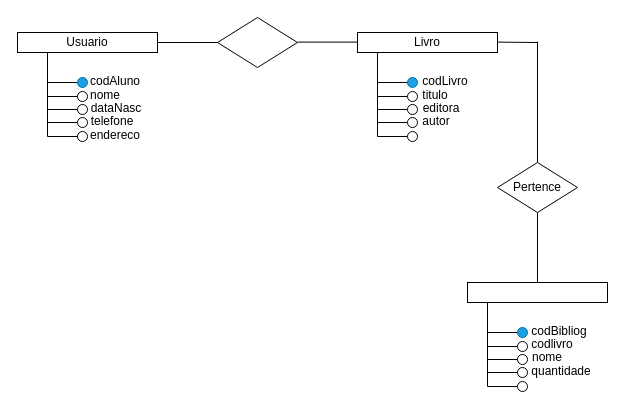
This 625x409 diagram has some shape labels left out. The centre of each missing label's shape, as x and y in pixels:
Biblioteca: point 537,292
Empresta: point 257,42
